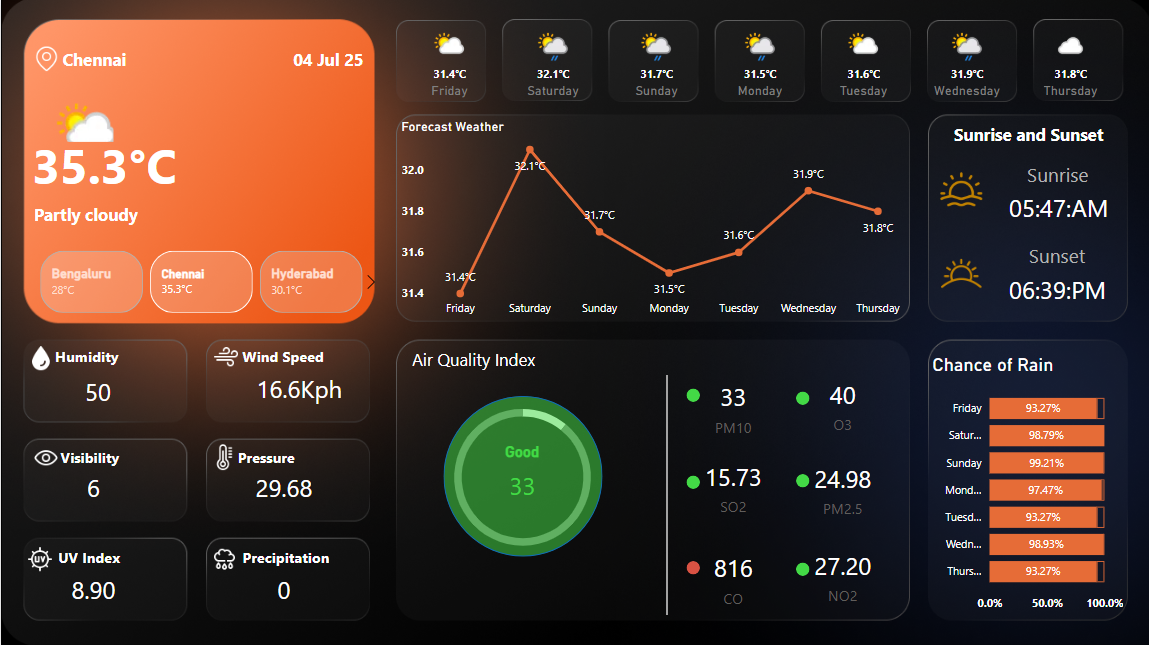

The page's visual inventory and layout, read from the dashboard file:
{"tool":"powerbi","page":{"name":"Weather_Dashboard","canvas":[1280,720],"ordinal":0},"visuals":[{"type":"donutChart","fields":{"Y":["Sum(Current.current.air_quality.pm10)","_Measure.Left_value_PM10"]},"box":[468.3,430,221.7,200],"z":0},{"type":"shape","box":[491.7,440,176.7,178.3],"z":1000},{"type":"advancedSlicerVisual","fields":{"Values":["Locations.location.name"]},"box":[17.9,273.1,408.1,79.7],"z":2000},{"type":"shape","box":[35.8,126.8,190.2,110.6],"z":3000},{"type":"shape","box":[37,217.2,188.1,41.3],"z":4000},{"type":"shape","box":[68.3,45.5,188.6,40.6],"z":5000},{"type":"shape","box":[250.4,45.5,152.8,40.6],"z":6000},{"type":"image","box":[30.9,45.5,37.4,40.6],"z":7000},{"type":"cardVisual","fields":{"Data":["Min(Current.current.condition.icon)"]},"box":[35.8,86.2,95.9,76.4],"z":8000},{"type":"image","box":[24.4,487.7,50.4,40.6],"z":9000},{"type":"image","box":[222.7,601.5,50.4,39],"z":10000},{"type":"image","box":[17.9,601.5,50.4,39],"z":11000},{"type":"image","box":[224.4,377.2,50.4,39],"z":12000},{"type":"image","box":[19.5,378.8,48.8,39],"z":13000},{"type":"image","box":[222.7,487.7,50.4,39],"z":14000},{"type":"textbox","box":[43.9,380.4,104,37.4],"z":15000},{"type":"textbox","box":[248.7,380.4,115.4,37.4],"z":16000},{"type":"textbox","box":[50.4,491,97.5,37.4],"z":17000},{"type":"textbox","box":[250.4,491,89.4,37.4],"z":18000},{"type":"textbox","box":[48.8,603.2,99.2,37.4],"z":19000},{"type":"textbox","box":[263.4,603.2,123.6,37.4],"z":20000},{"type":"card","fields":{"Values":["Sum(Current.current.humidity)"]},"box":[68.3,400,78.3,71.7],"z":21000},{"type":"card","fields":{"Values":["_Measure.Wind_Speed"]},"box":[274.8,399.9,112.2,65],"z":22000},{"type":"card","fields":{"Values":["Sum(Current.current.pressure_in)"]},"box":[274.8,510.5,78,65],"z":23000},{"type":"card","fields":{"Values":["Sum(Current.current.vis_km)"]},"box":[63.4,510.5,78,65],"z":24000},{"type":"card","fields":{"Values":["Sum(Current.current.uv)"]},"box":[63.4,622.7,78,65],"z":25000},{"type":"card","fields":{"Values":["Sum(Current.current.precip_mm)"]},"box":[274.8,622.7,78,65],"z":26000},{"type":"advancedSlicerVisual","fields":{"Values":["Forecast_Day.Day_Name"]},"box":[440.6,24.4,811.3,95.9],"z":27000},{"type":"lineChart","title":"Forecast Weather","fields":{"Y":["Sum(Forecast_Day.forecast.forecastday.day.avgtemp_c)"],"Category":["Forecast_Day.Day_Name"]},"box":[440,131.7,570,228.3],"z":28000},{"type":"textbox","box":[1031.7,131.7,220,50],"z":29000},{"type":"shape","box":[1120.6,211.7,136.7,36.7],"z":30000},{"type":"shape","box":[1120.6,303.3,136.7,36.7],"z":31000},{"type":"textbox","box":[1120.6,173.3,108.3,53.3],"z":32000},{"type":"textbox","box":[1078.9,263.3,190,58.3],"z":33000},{"type":"image","box":[1031.7,268.3,70,70],"z":34000},{"type":"image","box":[1031.7,181.7,70,56.7],"z":35000},{"type":"hundredPercentStackedBarChart","title":"Chance of Rain","fields":{"Category":["Forecast_Day.Day_Name"],"Y":["Sum(Forcast_Hour.forecast.forecastday.hour.chance_of_rain)","_Measure.Left_value_Rain"]},"box":[1030,393.3,221.7,295],"z":36000},{"type":"textbox","box":[451.7,381.7,220,50],"z":37000},{"type":"card","fields":{"Values":["Sum(Current.current.air_quality.pm10)"]},"box":[761.7,416.7,103.3,71.7],"z":38000},{"type":"card","fields":{"Values":["Sum(Current.current.air_quality.pm2_5)"]},"box":[883.3,505,103.3,76.7],"z":39000},{"type":"card","fields":{"Values":["Sum(Current.current.air_quality.no2)"]},"box":[883.3,601.7,103.3,76.7],"z":40000},{"type":"card","fields":{"Values":["Sum(Current.current.air_quality.o3)"]},"box":[883.3,411.7,103.3,76.7],"z":41000},{"type":"card","fields":{"Values":["Sum(Current.current.air_quality.so2)"]},"box":[761.1,505,103.3,71.7],"z":42000},{"type":"card","fields":{"Values":["Sum(Current.current.air_quality.co)"]},"box":[761.1,606.7,103.3,71.7],"z":43000},{"type":"shape","box":[761.1,431.7,15,15],"z":44000},{"type":"shape","box":[761.1,623.3,15,15],"z":45000},{"type":"shape","box":[761.1,528.3,15,15],"z":46000},{"type":"shape","box":[883.3,435,15,15],"z":47000},{"type":"shape","box":[883.3,526.7,15,15],"z":48000},{"type":"shape","box":[883.3,625,15,15],"z":49000},{"type":"shape","box":[718.3,416.7,43.3,266.7],"z":50000},{"type":"card","fields":{"Values":["Sum(Current.current.air_quality.pm10)"]},"box":[518.3,491.7,121.7,78.3],"z":51000}]}

Visuals, with their boxes in screenshot pixels (x1, y1, x2, y2), scaled from the page's 1280x720 canvas onto the 1149x645 screenshot:
donutChart - Sum(Current.current.air_quality.pm10) x _Measure.Left_value_PM10: box=[420, 385, 619, 564]
shape: box=[441, 394, 600, 554]
advancedSlicerVisual - Locations.location.name: box=[16, 245, 382, 316]
shape: box=[32, 114, 203, 213]
shape: box=[33, 195, 202, 232]
shape: box=[61, 41, 231, 77]
shape: box=[225, 41, 362, 77]
image: box=[28, 41, 61, 77]
cardVisual - Min(Current.current.condition.icon): box=[32, 77, 118, 146]
image: box=[22, 437, 67, 473]
image: box=[200, 539, 245, 574]
image: box=[16, 539, 61, 574]
image: box=[201, 338, 247, 373]
image: box=[18, 339, 61, 374]
image: box=[200, 437, 245, 472]
textbox: box=[39, 341, 133, 374]
textbox: box=[223, 341, 327, 374]
textbox: box=[45, 440, 133, 473]
textbox: box=[225, 440, 305, 473]
textbox: box=[44, 540, 133, 574]
textbox: box=[236, 540, 347, 574]
card - Sum(Current.current.humidity): box=[61, 358, 132, 423]
card - _Measure.Wind_Speed: box=[247, 358, 347, 416]
card - Sum(Current.current.pressure_in): box=[247, 457, 317, 516]
card - Sum(Current.current.vis_km): box=[57, 457, 127, 516]
card - Sum(Current.current.uv): box=[57, 558, 127, 616]
card - Sum(Current.current.precip_mm): box=[247, 558, 317, 616]
advancedSlicerVisual - Forecast_Day.Day_Name: box=[396, 22, 1124, 108]
"Forecast Weather" lineChart: box=[395, 118, 907, 322]
textbox: box=[926, 118, 1124, 163]
shape: box=[1006, 190, 1129, 223]
shape: box=[1006, 272, 1129, 305]
textbox: box=[1006, 155, 1103, 203]
textbox: box=[968, 236, 1139, 288]
image: box=[926, 240, 989, 303]
image: box=[926, 163, 989, 214]
"Chance of Rain" hundredPercentStackedBarChart: box=[925, 352, 1124, 617]
textbox: box=[405, 342, 603, 387]
card - Sum(Current.current.air_quality.pm10): box=[684, 373, 776, 438]
card - Sum(Current.current.air_quality.pm2_5): box=[793, 452, 886, 521]
card - Sum(Current.current.air_quality.no2): box=[793, 539, 886, 608]
card - Sum(Current.current.air_quality.o3): box=[793, 369, 886, 438]
card - Sum(Current.current.air_quality.so2): box=[683, 452, 776, 517]
card - Sum(Current.current.air_quality.co): box=[683, 544, 776, 608]
shape: box=[683, 387, 697, 400]
shape: box=[683, 558, 697, 572]
shape: box=[683, 473, 697, 487]
shape: box=[793, 390, 806, 403]
shape: box=[793, 472, 806, 485]
shape: box=[793, 560, 806, 573]
shape: box=[645, 373, 684, 612]
card - Sum(Current.current.air_quality.pm10): box=[465, 440, 574, 511]
